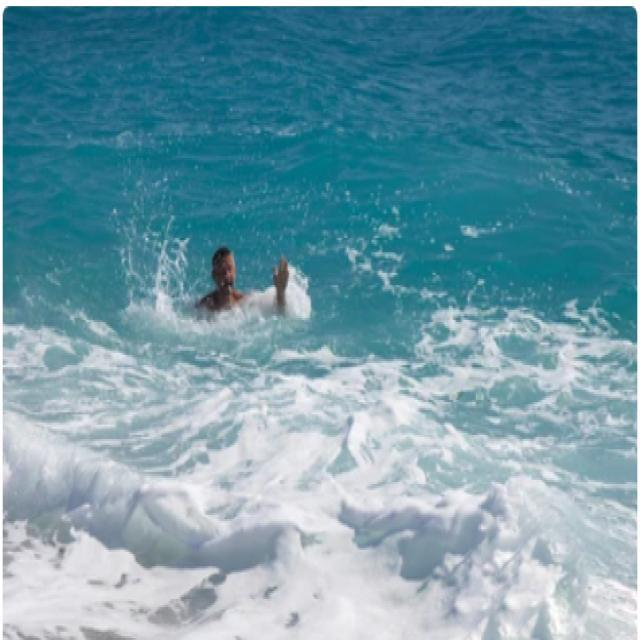Out of Water: (191, 238, 293, 326)
